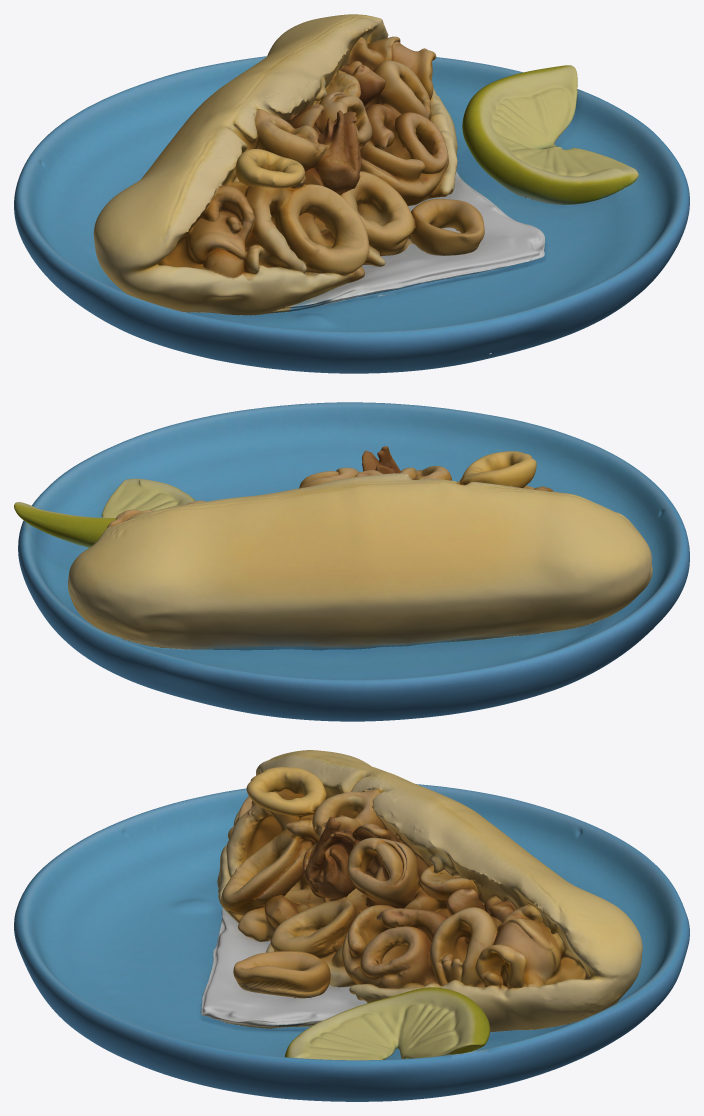
The model's file is box milonge.glb.
The picture shows the model from 3 angles, top to bottom: view 1: azimuth 30°, elevation 25°; view 2: azimuth 150°, elevation 25°; view 3: azimuth 270°, elevation 25°; orthographic projection.
Visible parts, largest first — view 1: tripo_node_4c11aa4c-3a92-440e-8571-416cb73b23ea; view 2: tripo_node_4c11aa4c-3a92-440e-8571-416cb73b23ea; view 3: tripo_node_4c11aa4c-3a92-440e-8571-416cb73b23ea.
Part boxes in pixels (x1,y1,x2,y2): tripo_node_4c11aa4c-3a92-440e-8571-416cb73b23ea: (14, 14, 689, 373); tripo_node_4c11aa4c-3a92-440e-8571-416cb73b23ea: (14, 402, 689, 721); tripo_node_4c11aa4c-3a92-440e-8571-416cb73b23ea: (14, 750, 689, 1101).
Size of the model in its own units: 0.9782 by 0.258 by 0.9799.
Materials: 1 (1 with a texture image).
